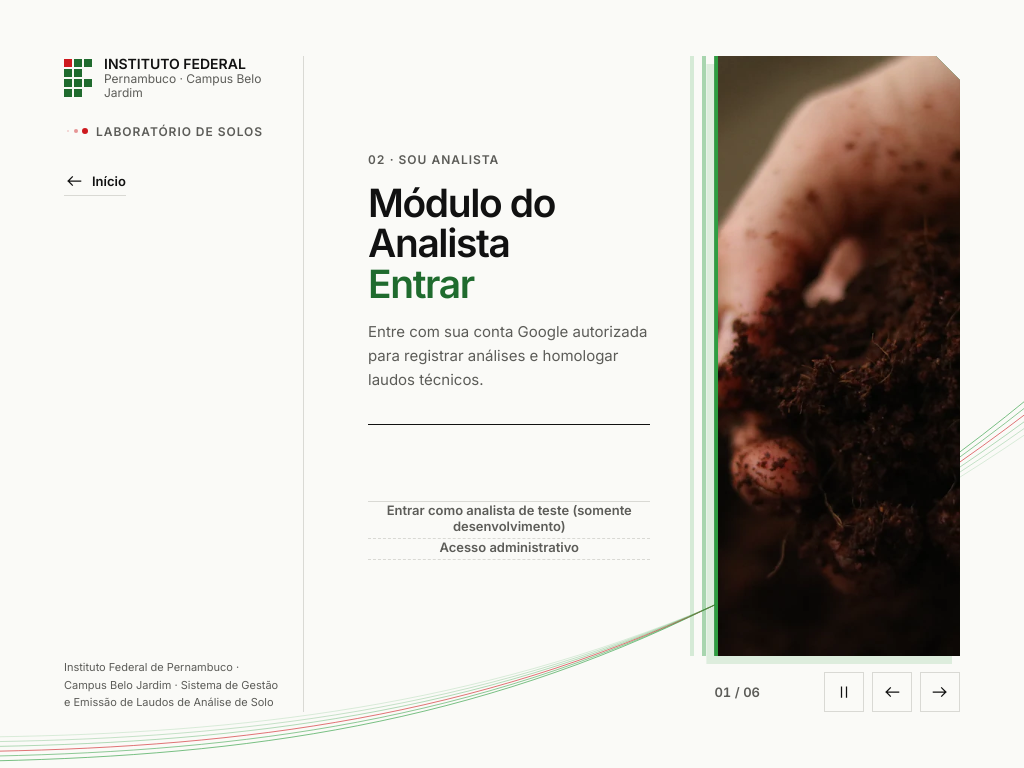
it: LoginAnalistaPage › oculta login local por padrão, não exibe PowerUser e valida ao expandir
Expected: the field labelled "Usuário" is not shown
Expected: the field labelled "Senha" is not shown
Click the button "Acesso administrativo" at (509, 550), box [368, 539, 650, 560]
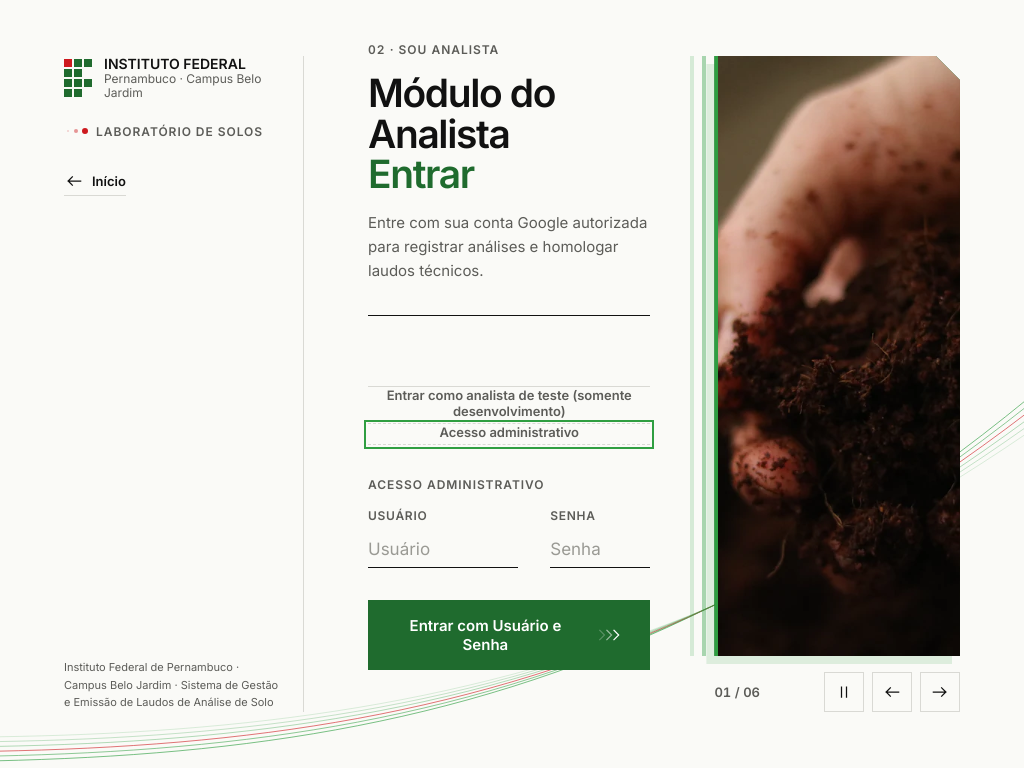
Click the button "Entrar com Usuário e Senha" at (509, 635), box [368, 600, 650, 670]
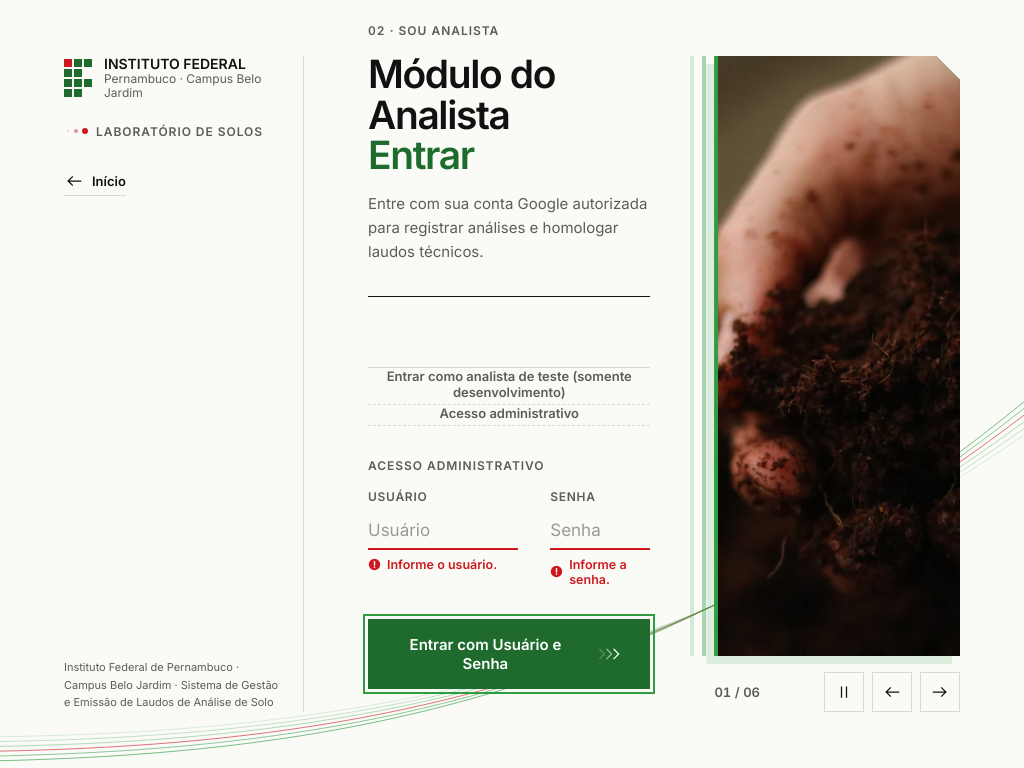
Expected: the text "Informe o usuário." is shown, [368, 557, 518, 572]
Expected: the text "Informe a senha." is shown, [550, 557, 626, 587]
